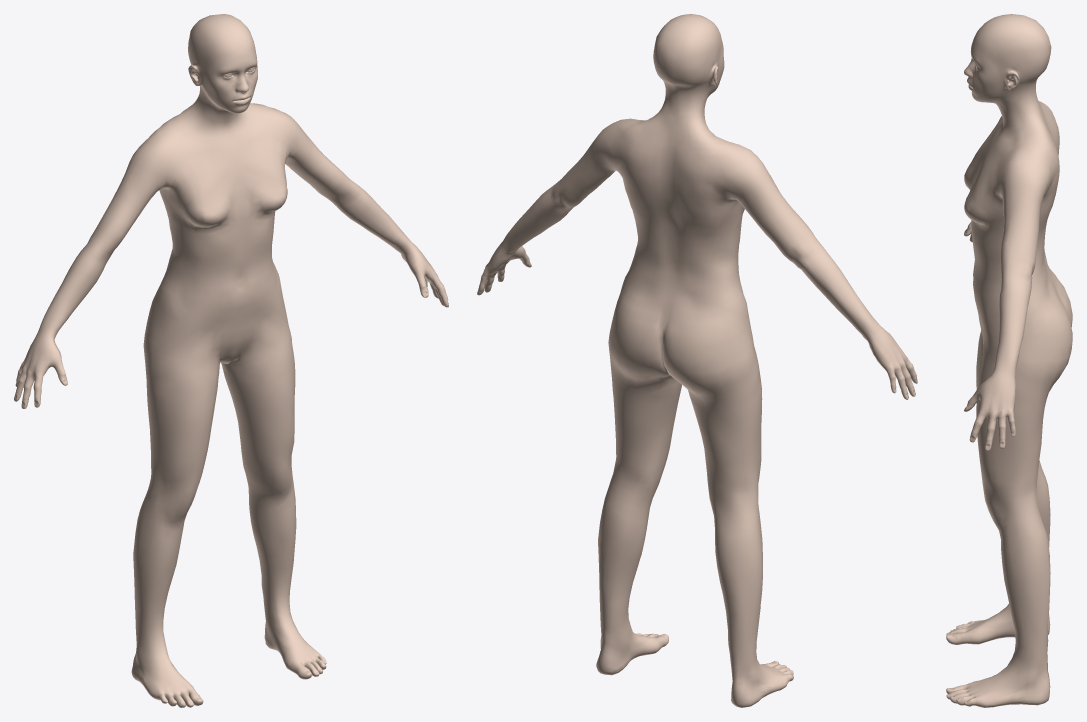
Rendered from female.glb.
3 views of the same model, side by side, from view 1: azimuth 30°, elevation 25°; view 2: azimuth 150°, elevation 25°; view 3: azimuth 270°, elevation 25° (orthographic).
Parts seen in each view (by area): view 1: body; view 2: body; view 3: body.
Boxes of the visible parts, x1,y1,x2,y2 form: body: (14,14,448,707); body: (477,14,917,707); body: (946,14,1072,707).
Bounding box in the file's own units: 1.2 × 1.77 × 0.3103.
